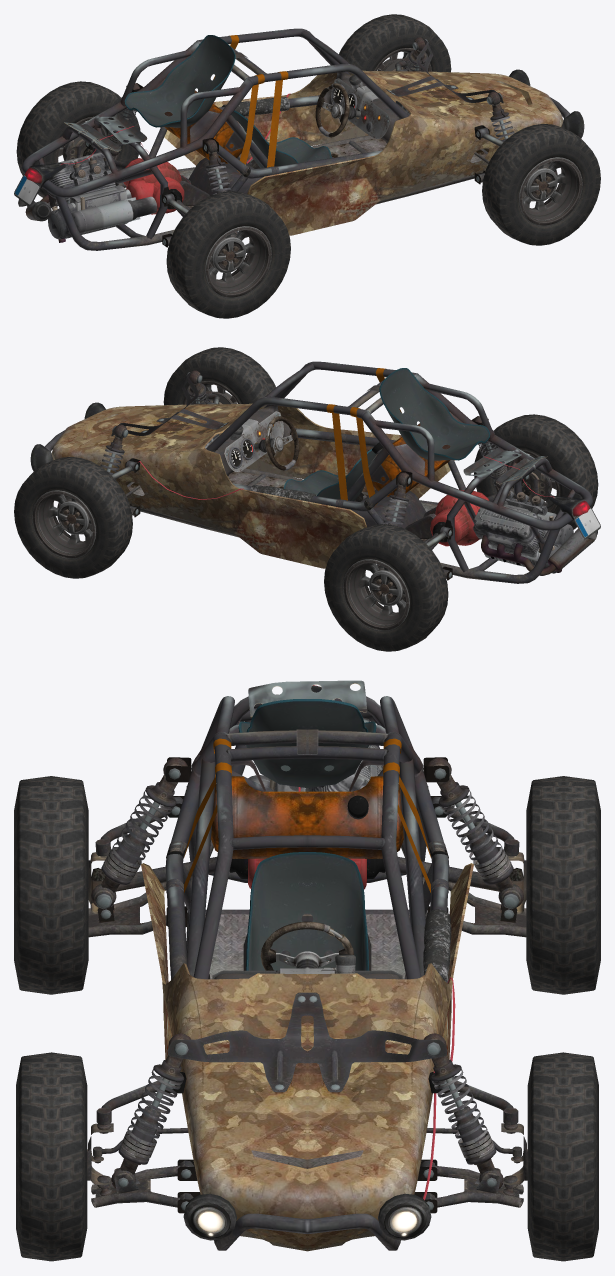
File: buggy.glb
3 views of the same model, one above another, from view 1: azimuth 30°, elevation 25°; view 2: azimuth 150°, elevation 25°; view 3: azimuth 270°, elevation 25° (orthographic). The views are drawn at different scales.
Parts seen in each view (by area): view 1: Merged; view 2: Merged; view 3: Merged.
Boxes of the visible parts, x1,y1,x2,y2 form: Merged: [14, 14, 600, 318]; Merged: [14, 347, 600, 651]; Merged: [14, 680, 600, 1261].
Size of the model in its own units: 10.3 by 3.73 by 5.67.
5 materials, 5 textured.
